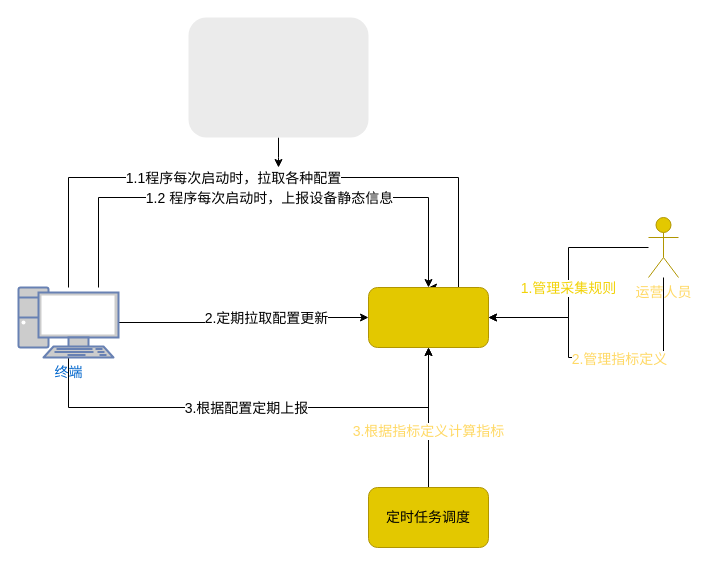
Some shapes in this 708 by 565 pixel diagram are drawn without their labels. The shapes that lost their labels are listed below. From the top down, each one's box as (x1, y1, x2, y2) in pixels, then its label:
(188, 17, 368, 137): 客户端配置 1. 轮询配置频率 2.上报频率 3. 采集内容
(368, 286, 488, 348): 管理端
